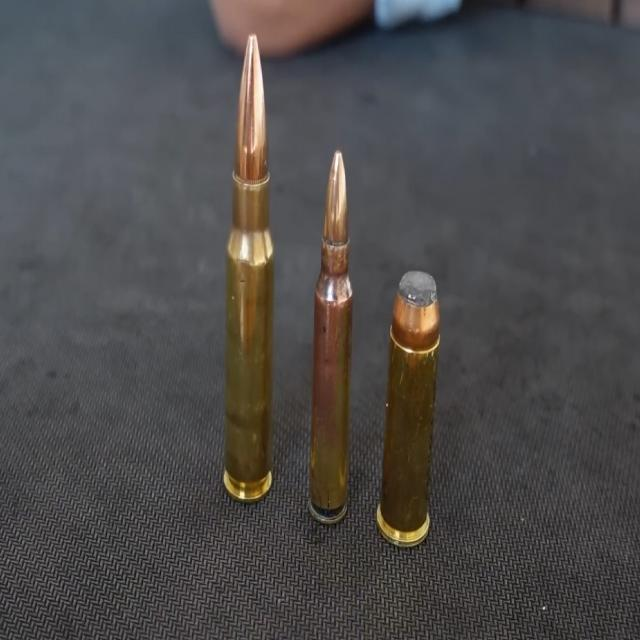rifle: (215, 17, 450, 580)
